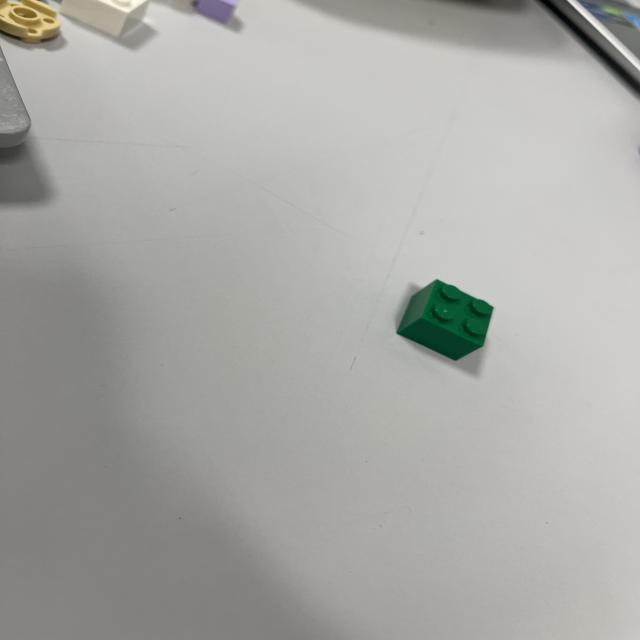C2x2x1: (400, 283, 494, 362)
